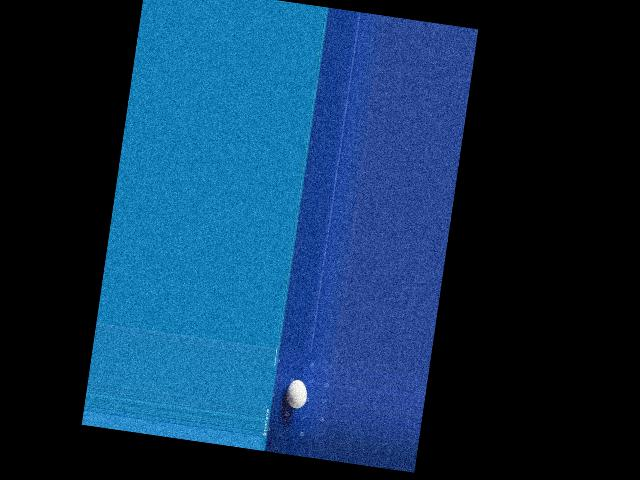egg: (284, 378, 308, 409)
